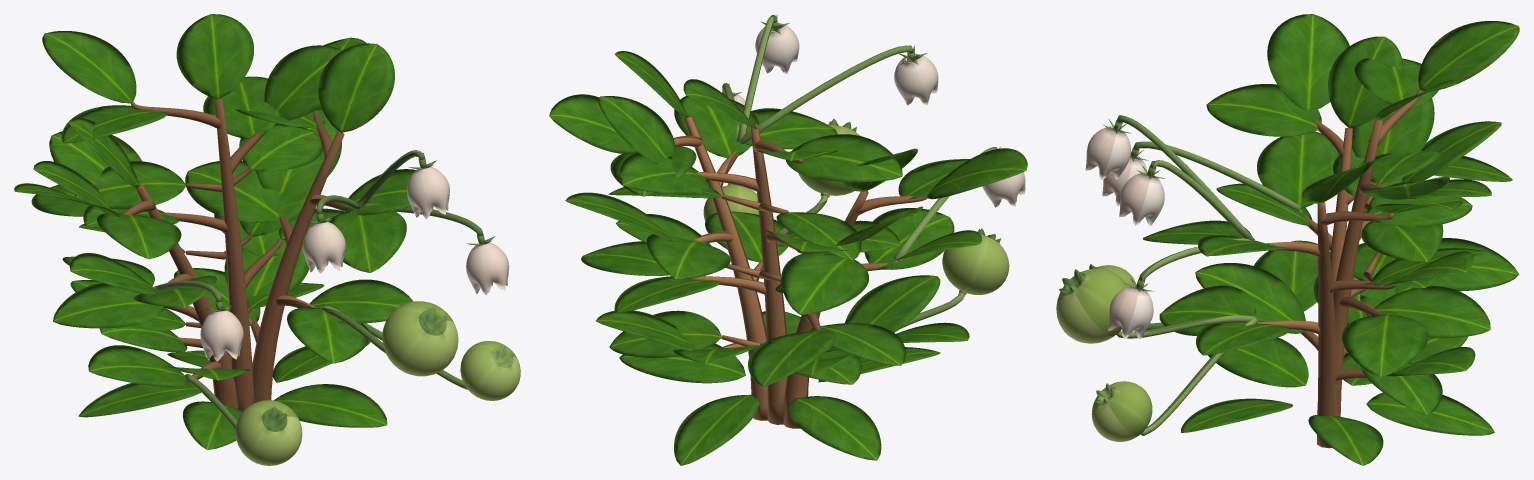
File: NP_Blueberry_Flowering.fbx
The picture shows the model from 3 angles, left to right: view 1: azimuth 30°, elevation 25°; view 2: azimuth 150°, elevation 25°; view 3: azimuth 270°, elevation 25°; orthographic projection.
Parts seen in each view (by area): view 1: NP_Blueberry_Flowering; view 2: NP_Blueberry_Flowering; view 3: NP_Blueberry_Flowering.
Boxes of the visible parts, <box> form: NP_Blueberry_Flowering: <box>14,14,520,465</box>; NP_Blueberry_Flowering: <box>549,14,1027,465</box>; NP_Blueberry_Flowering: <box>1056,14,1519,465</box>.
Size of the model in its own units: 85.99 by 72.45 by 82.92.
